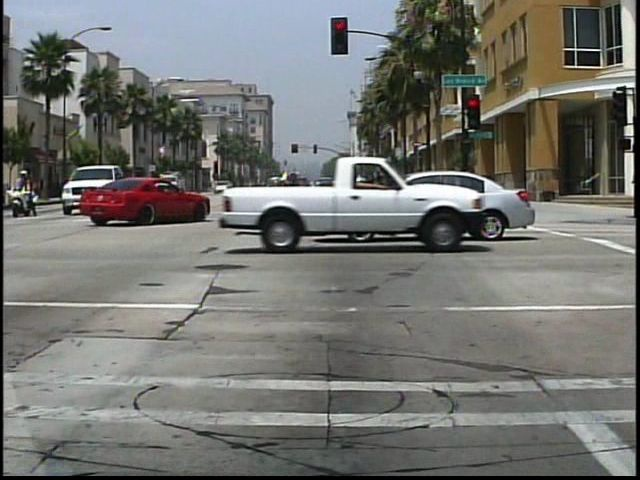person: (5, 171, 43, 221)
